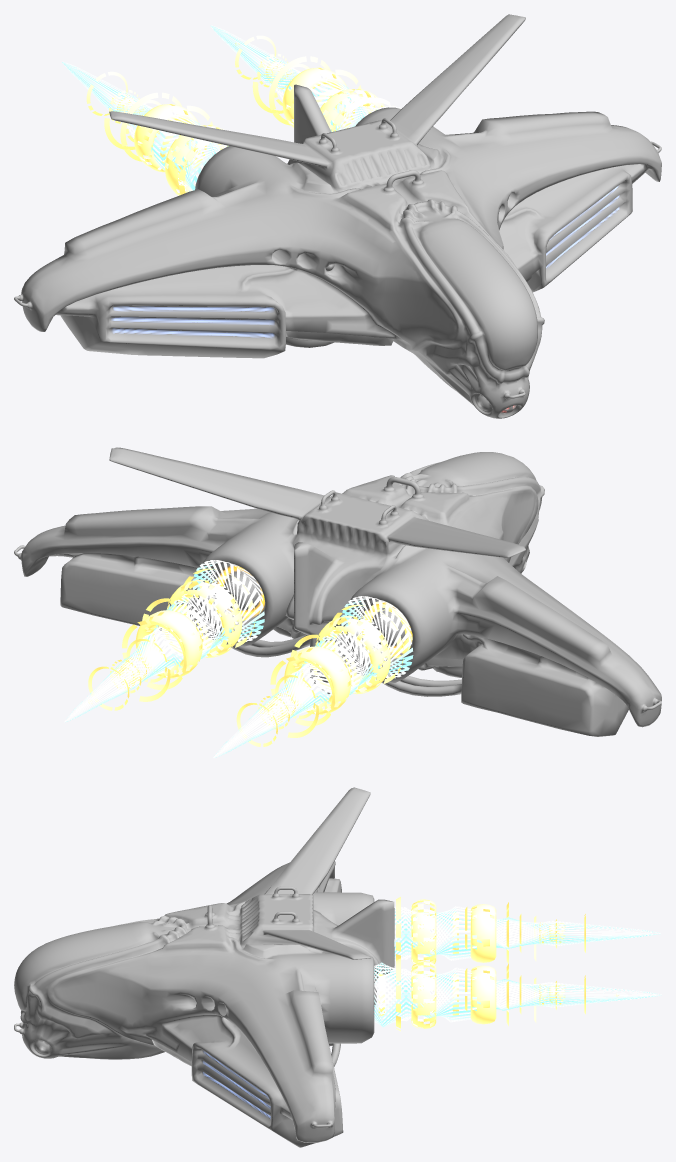
Rendered from space.gltf.
3 renders of one model, top to bottom at view 1: azimuth 30°, elevation 25°; view 2: azimuth 150°, elevation 25°; view 3: azimuth 270°, elevation 25°, orthographic. The views are drawn at different scales.
Parts seen in each view (by area): view 1: Ship, Torus.002, Circle, Torus.006, Circle.001, Torus.003, Torus.005; view 2: Ship, Circle, Circle.001, Torus.006, Torus.002, Torus.003, Torus.005; view 3: Ship, Circle.001, Circle, Torus.005, Torus.002, Torus.006, Torus.003.
Boxes of the visible parts, x1=… form: Ship: x1=14, y1=14, x2=661, y2=418; Torus.002: x1=86, y1=71, x2=212, y2=172; Circle: x1=62, y1=61, x2=228, y2=191; Torus.006: x1=235, y1=35, x2=361, y2=131; Circle.001: x1=210, y1=25, x2=401, y2=131; Torus.003: x1=160, y1=125, x2=227, y2=195; Torus.005: x1=316, y1=88, x2=393, y2=131; Ship: x1=14, y1=447, x2=661, y2=736; Circle: x1=213, y1=596, x2=413, y2=757; Circle.001: x1=64, y1=560, x2=264, y2=722; Torus.006: x1=88, y1=598, x2=203, y2=710; Torus.002: x1=236, y1=634, x2=351, y2=746; Torus.003: x1=310, y1=604, x2=403, y2=694; Torus.005: x1=161, y1=568, x2=255, y2=657; Ship: x1=14, y1=787, x2=394, y2=1147; Circle.001: x1=374, y1=962, x2=661, y2=1026; Circle: x1=394, y1=906, x2=660, y2=960; Torus.005: x1=378, y1=958, x2=458, y2=1031; Torus.002: x1=457, y1=902, x2=585, y2=963; Torus.006: x1=457, y1=963, x2=585, y2=1026; Torus.003: x1=396, y1=897, x2=458, y2=967.
Bounding box in the file's own units: 9.55 × 3.1 × 9.84.
